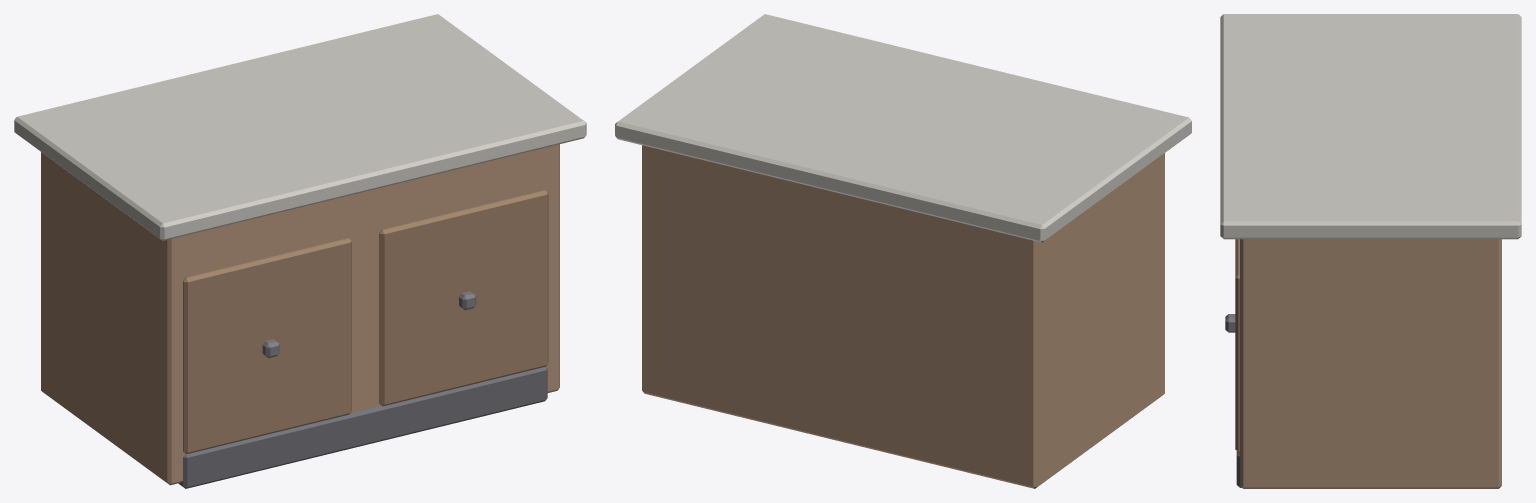
Rendered from SM_Kitchen_Island.fbx.
The picture shows the model from 3 angles, left to right: view 1: azimuth 30°, elevation 25°; view 2: azimuth 150°, elevation 25°; view 3: azimuth 270°, elevation 25°; orthographic projection.
Visible parts, largest first — view 1: Kitchen_Island; view 2: Kitchen_Island; view 3: Kitchen_Island.
Boxes of the visible parts, x1,y1,x2,y2 form: Kitchen_Island: [14, 14, 586, 488]; Kitchen_Island: [615, 14, 1191, 488]; Kitchen_Island: [1220, 14, 1521, 488].
Size of the model in its own units: 152 by 95 by 92.
